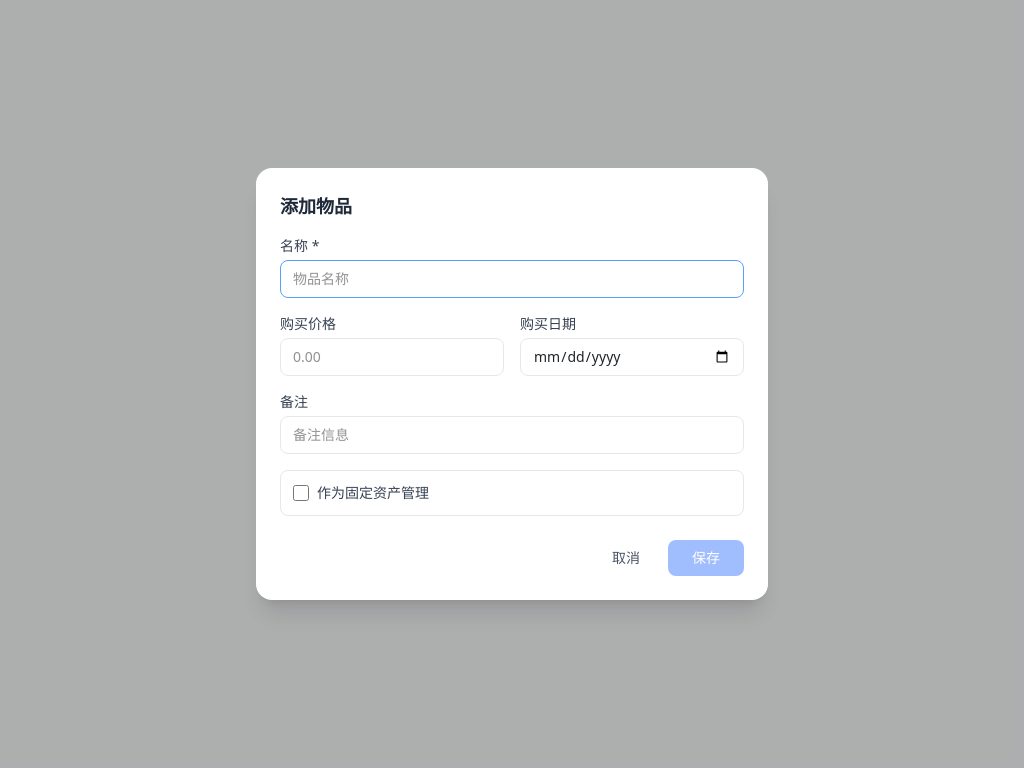
ItemFormModal › enables save when name is entered
Type "测试物品" into the field with placeholder "物品名称" at point(512, 279), box [280, 260, 744, 298]
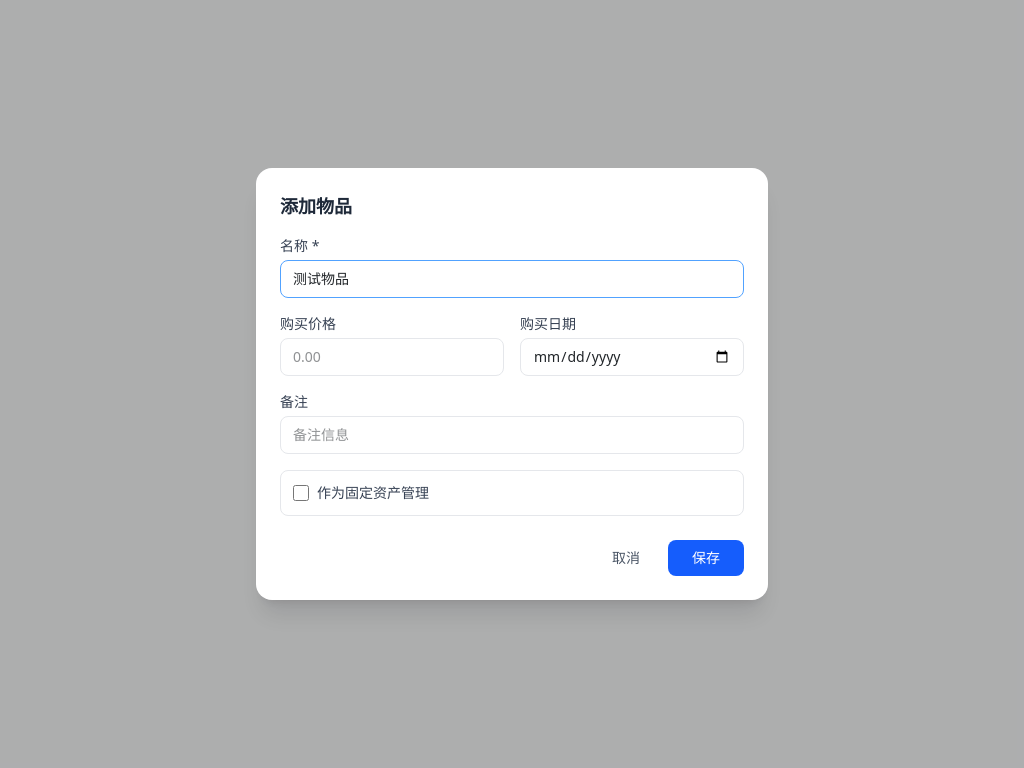
Expected: the button "保存" is enabled, [668, 540, 744, 576]
